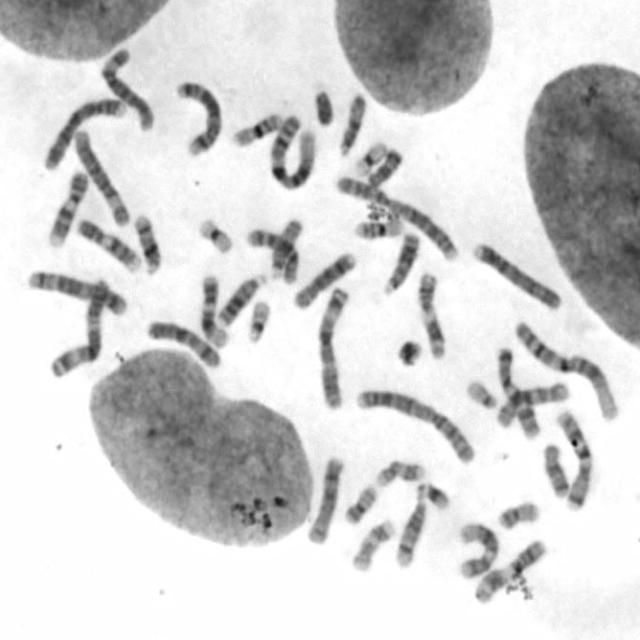A1: (511, 317, 622, 422), (266, 110, 317, 192)
A2: (332, 171, 462, 263), (351, 384, 478, 466)
A3: (45, 274, 111, 378), (313, 281, 352, 411)
B4: (39, 94, 128, 172), (470, 240, 562, 312)
B5: (24, 266, 128, 318), (172, 75, 224, 158)
C10: (491, 378, 572, 430), (243, 224, 299, 285)
C11: (469, 536, 548, 606), (415, 268, 447, 360)
C12: (454, 517, 500, 581), (196, 271, 230, 349)
C6: (71, 126, 131, 227), (98, 42, 157, 133)
C7: (494, 342, 542, 439), (552, 405, 594, 512)
C8: (290, 248, 358, 311), (303, 452, 346, 546)
C9: (75, 214, 142, 274), (44, 167, 90, 248)
D13: (214, 270, 268, 326), (379, 228, 422, 296)
D14: (392, 496, 427, 569), (131, 210, 163, 277)
D15: (266, 214, 304, 278), (335, 90, 367, 158)
E16: (228, 108, 284, 148), (350, 214, 405, 242)
E17: (348, 514, 397, 574), (372, 455, 426, 488)
E18: (363, 144, 403, 190), (539, 440, 570, 498)
F19: (194, 214, 234, 256), (350, 139, 388, 177)
F20: (340, 482, 380, 526), (494, 498, 542, 531)
G21: (413, 478, 452, 511), (394, 335, 423, 369)
G22: (243, 296, 272, 344), (463, 376, 498, 409)
X: (144, 316, 222, 369)
Y: (312, 85, 336, 128)
